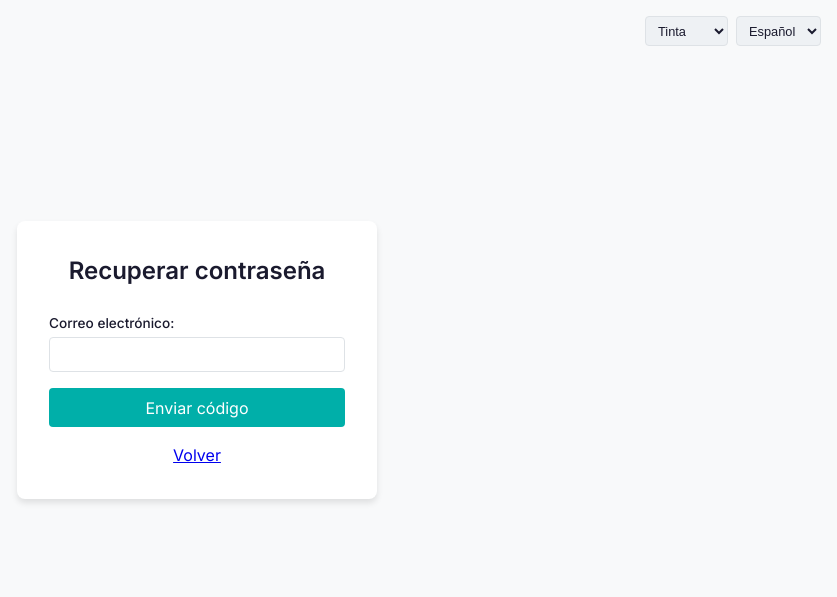
Test case: ForgotPasswordPage › copies the token to the clipboard with confirmation
Type "test@test.com" into the field labelled "Correo electrónico:".
click(197, 355); type("test@test.com")  # box x1=49 y1=337 x2=345 y2=372
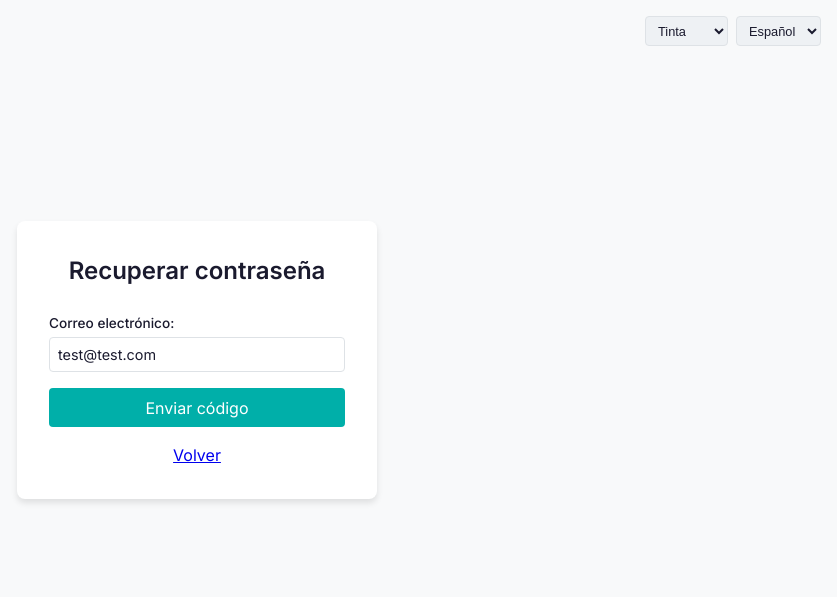
Click the button "Enviar código".
click(197, 408)  # box x1=49 y1=388 x2=345 y2=427
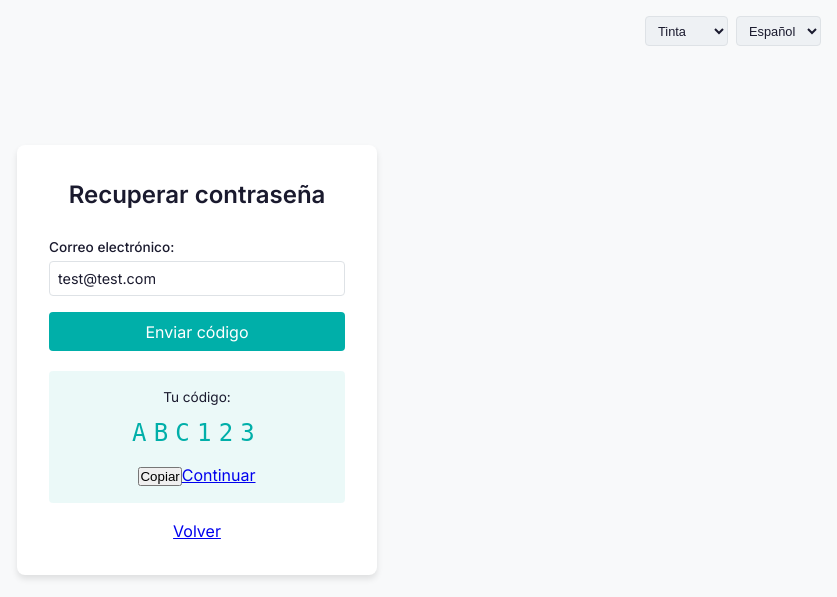
Check: the button "Copiar" is shown
Click the button "Copiar".
click(160, 477)  # box x1=138 y1=468 x2=182 y2=486
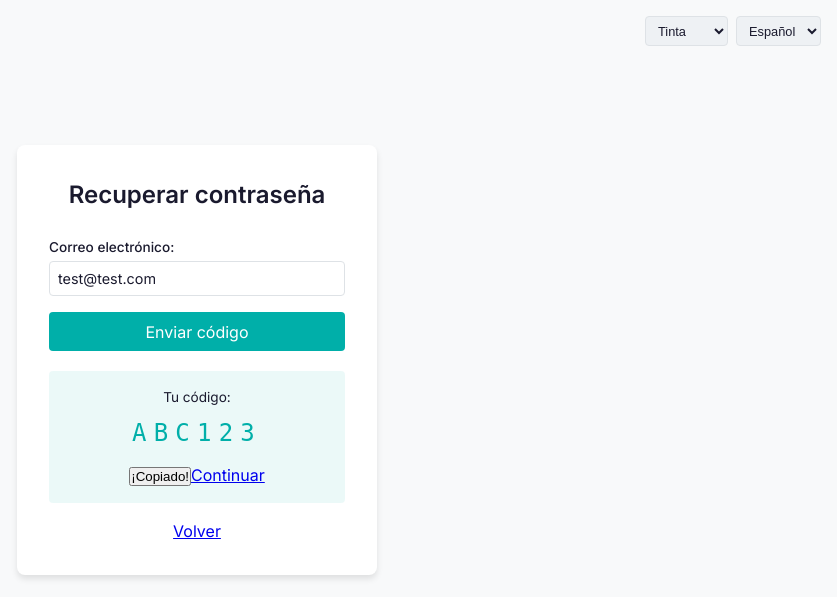
Check: the button "¡Copiado!" is shown, box x1=129 y1=468 x2=191 y2=486
